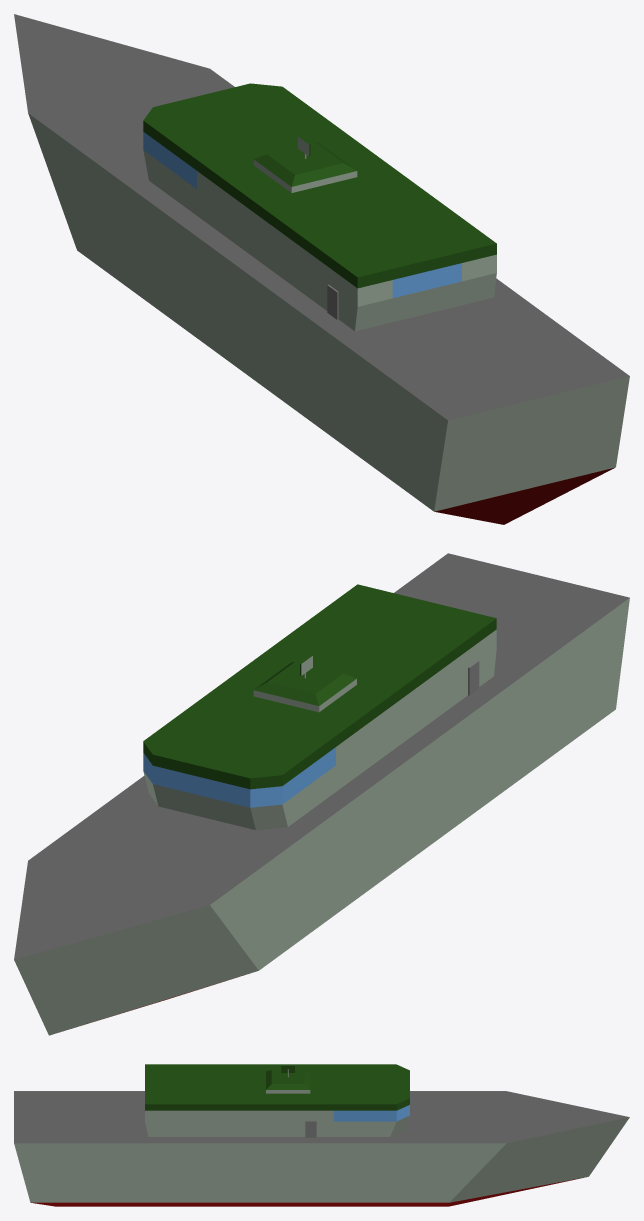
The model's file is battleship_1.BuM4jJde.glb.
3 renders of one model, top to bottom at view 1: azimuth 30°, elevation 25°; view 2: azimuth 150°, elevation 25°; view 3: azimuth 270°, elevation 25°, orthographic. The views are drawn at different scales.
Visible parts, largest first — view 1: base, Cube, Cube.001; view 2: base, Cube, Cube.001; view 3: base, Cube, Cube.001.
Part boxes in pixels (bbox=[...]): base: bbox=[14, 14, 629, 524]; Cube: bbox=[143, 83, 496, 331]; Cube.001: bbox=[253, 142, 357, 192]; base: bbox=[14, 553, 629, 1035]; Cube: bbox=[143, 584, 496, 830]; Cube.001: bbox=[253, 662, 356, 712]; base: bbox=[14, 1091, 629, 1206]; Cube: bbox=[145, 1064, 409, 1136]; Cube.001: bbox=[266, 1070, 310, 1093].
Bounding box in the file's own units: 1.5 × 1.89 × 7.5.
